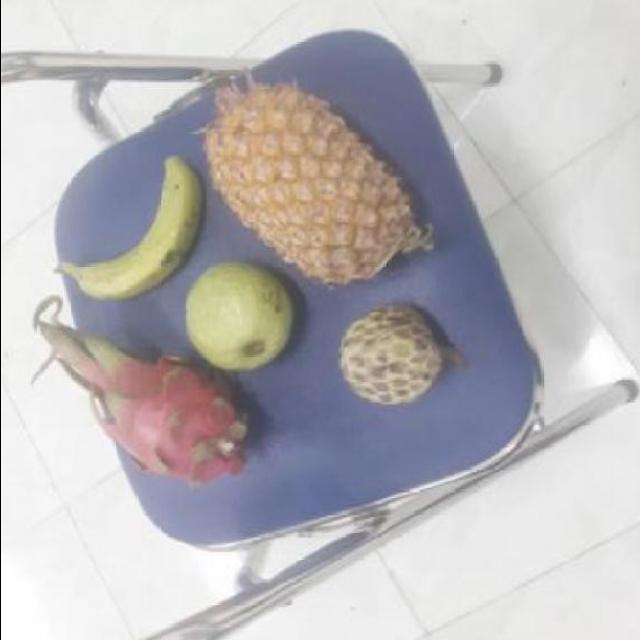banana: (62, 150, 205, 298)
dragon fruit: (79, 322, 249, 480)
guava: (184, 258, 296, 370)
pineapple: (202, 76, 430, 282)
sugar apple: (338, 295, 444, 405)
